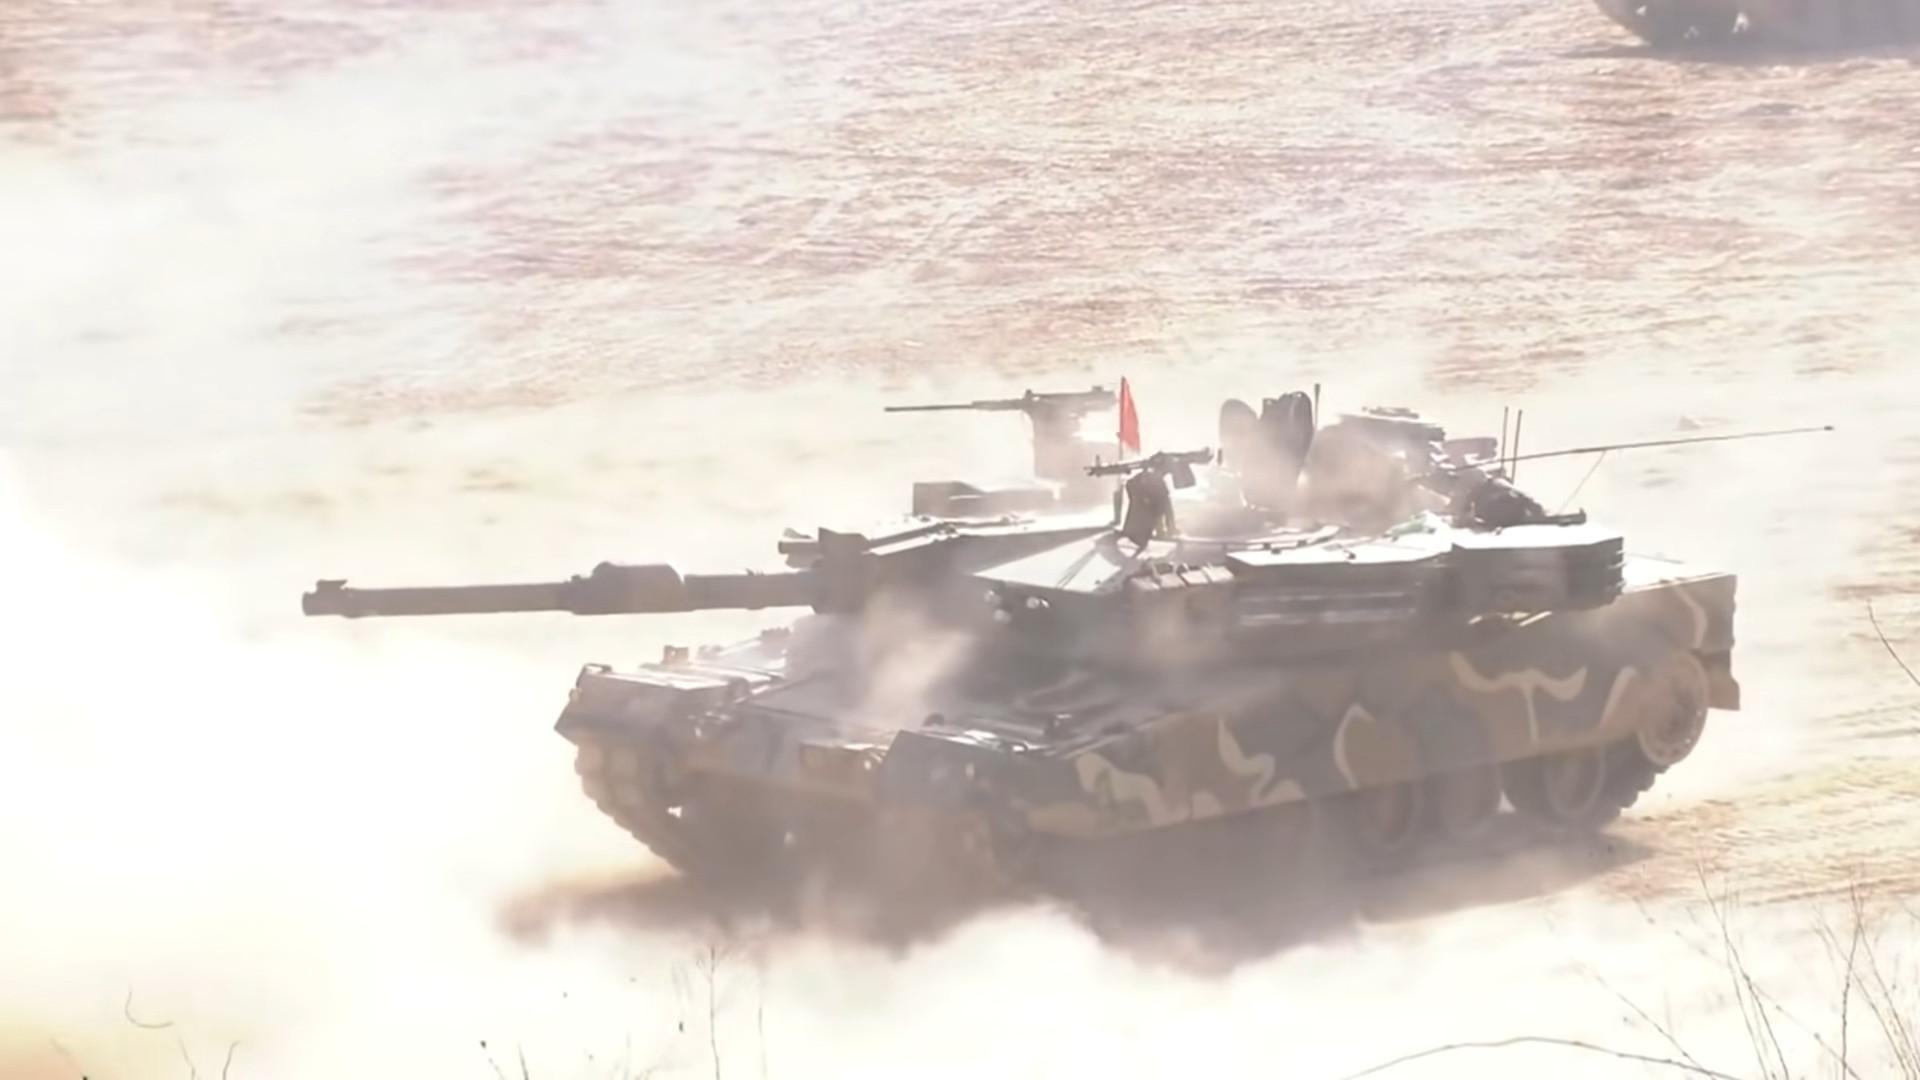tank: (302, 386, 1741, 919)
